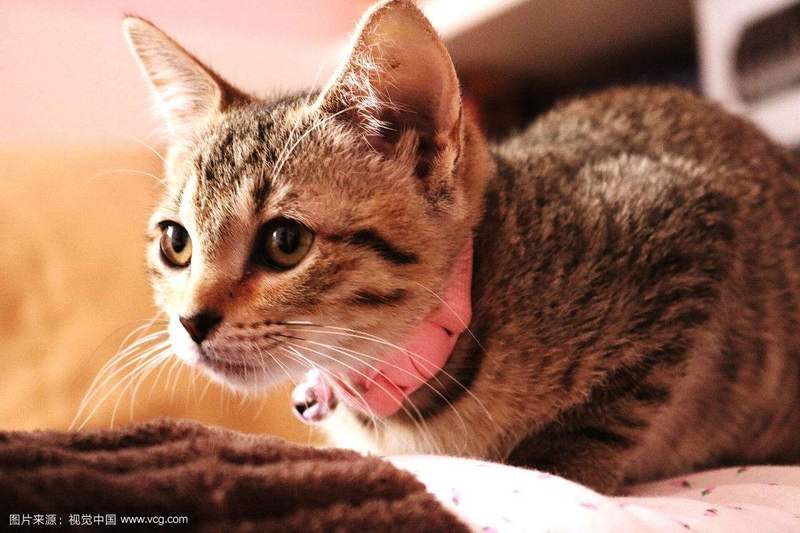cat: (96, 4, 523, 404)
